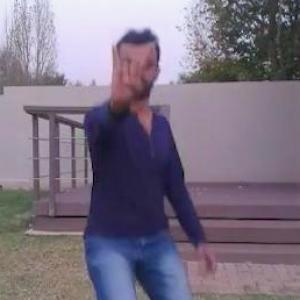takeoff-hand: (101, 36, 155, 101)
